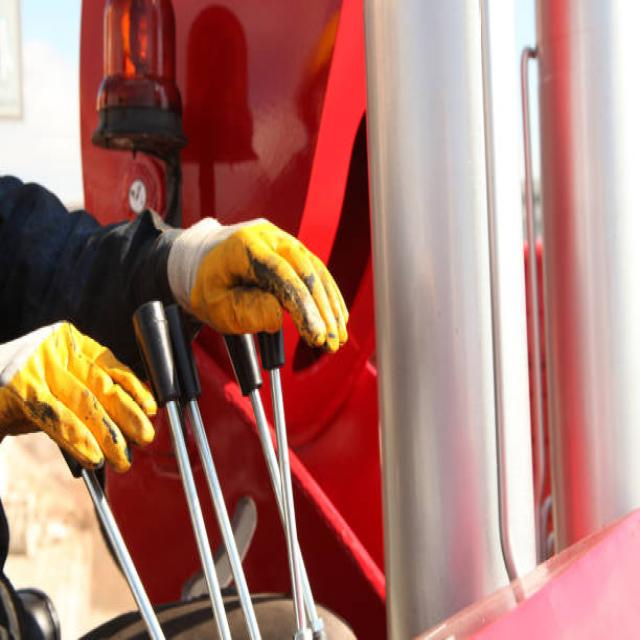gloves: (0, 317, 162, 474), (168, 216, 348, 354)
